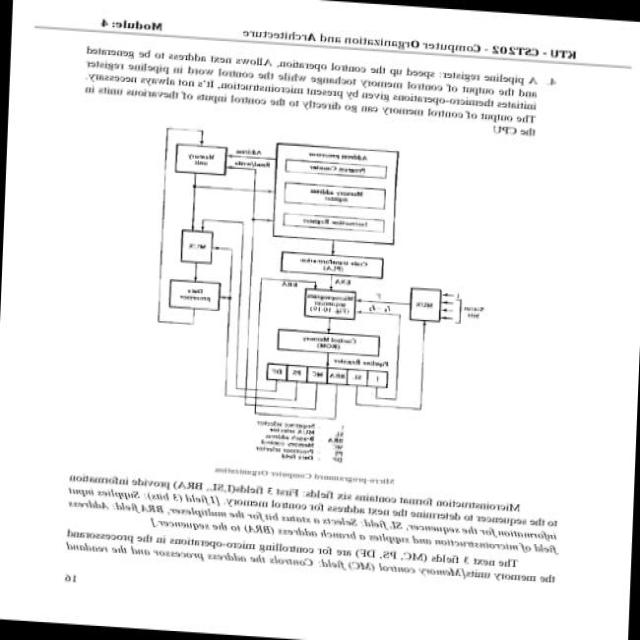Figure Detection - v3 Dataset Version2: (139, 114, 500, 480)
